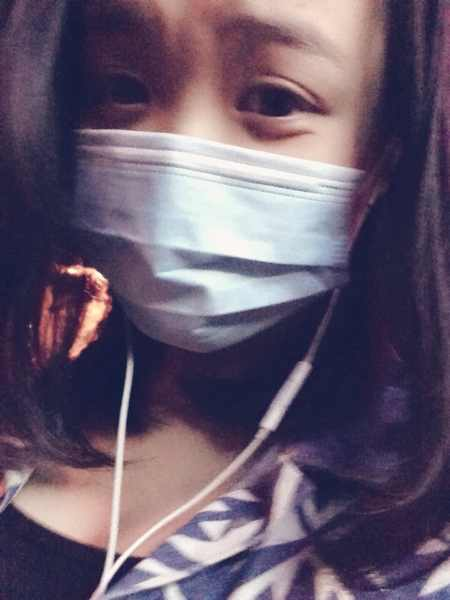face_mask: (65, 1, 372, 353)
